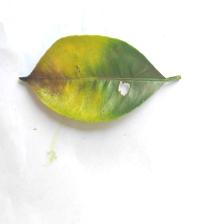black spot: (14, 47, 60, 114)
